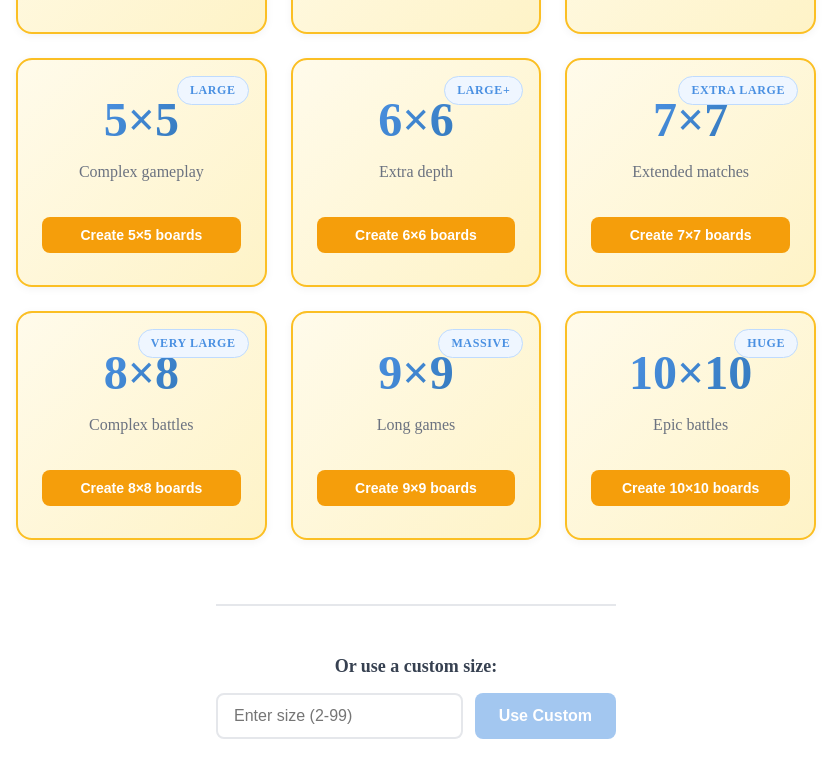
Test: BoardSizeSelector › Custom Size Input › should show error for size above maximum
(page scrolled)
Type "100" into the number field with placeholder "Enter size (2-99)" at coordinates (339, 716), box [216,693,463,739]
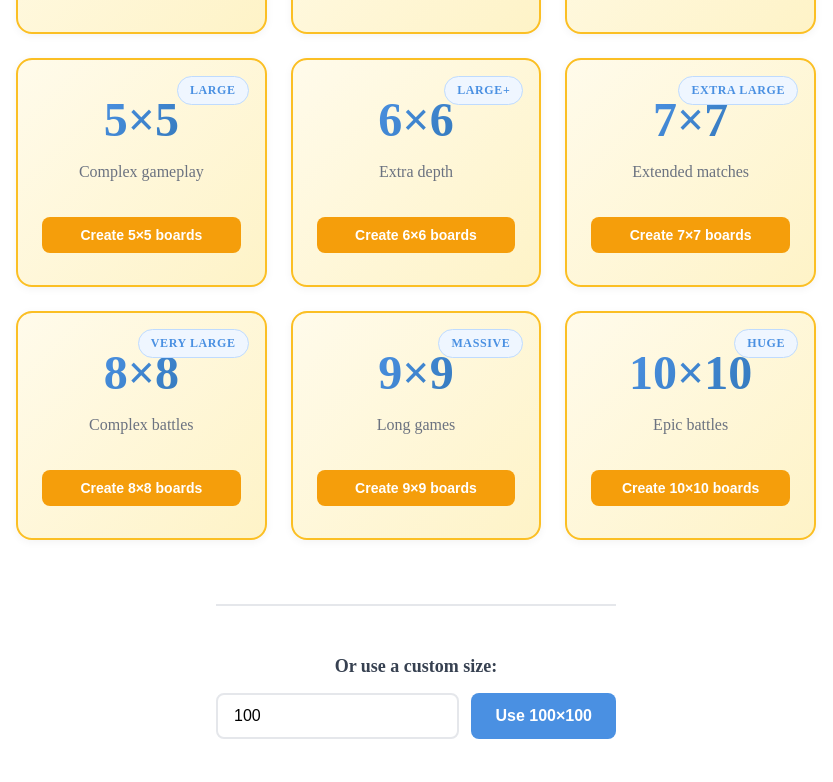
Click the button "Use Custom" at coordinates (544, 716), box [472,693,616,739]
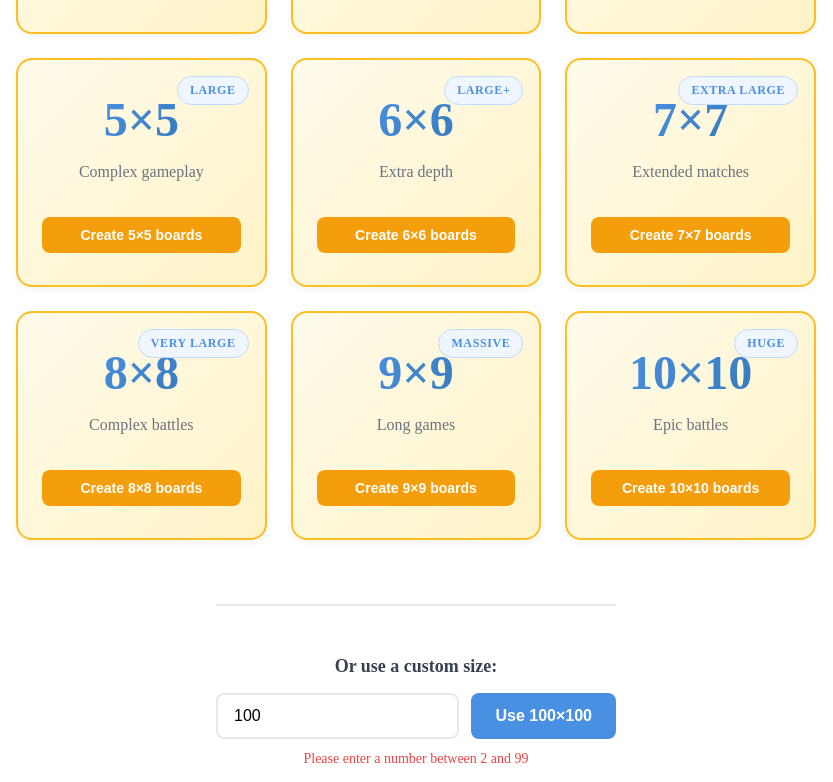
Result: the text "Please enter a number between 2 and 99" is shown at [304,751,529,766]
